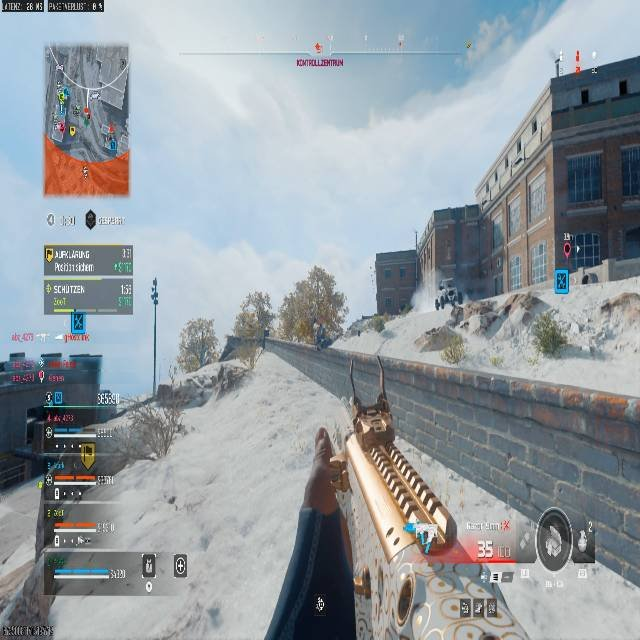player: (435, 282, 464, 320)
